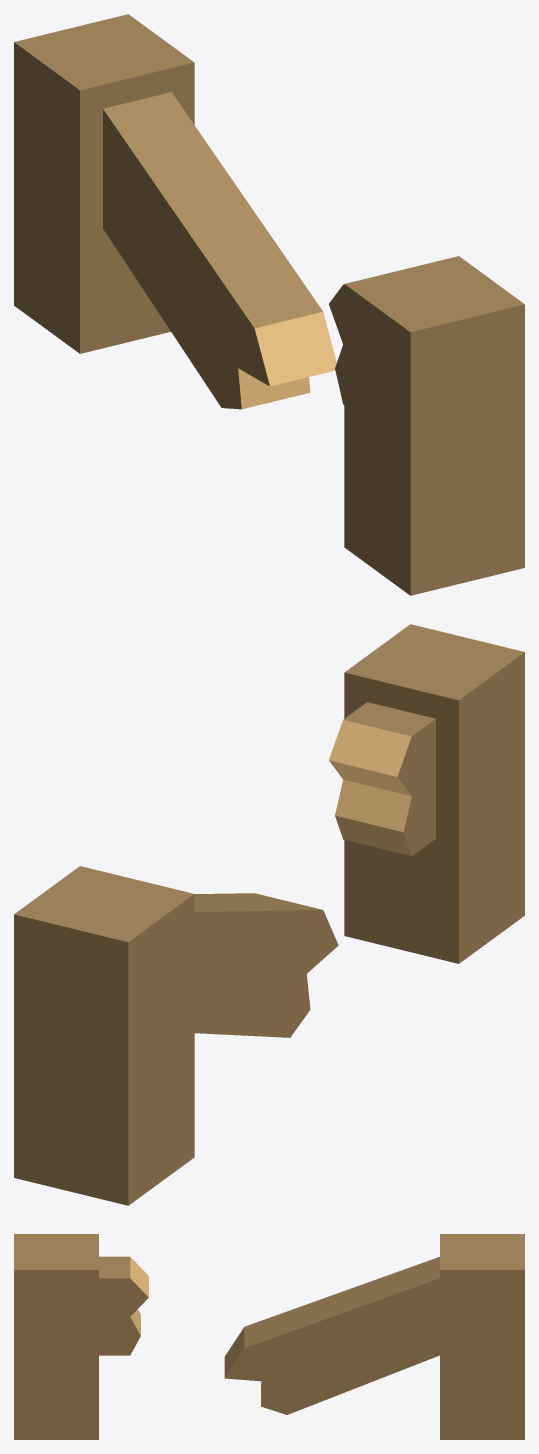
The model's file is Wood_Fence_Broken_01.obj.
3 renders of one model, top to bottom at view 1: azimuth 30°, elevation 25°; view 2: azimuth 150°, elevation 25°; view 3: azimuth 270°, elevation 25°, orthographic. The views are drawn at different scales.
Visible parts, largest first — view 1: Mesh1_Wood_Fence_Broken_Model; view 2: Mesh1_Wood_Fence_Broken_Model; view 3: Mesh1_Wood_Fence_Broken_Model.
Part boxes in pixels (x1,y1,x2,y2): Mesh1_Wood_Fence_Broken_Model: [14, 14, 524, 595]; Mesh1_Wood_Fence_Broken_Model: [14, 624, 524, 1205]; Mesh1_Wood_Fence_Broken_Model: [14, 1234, 524, 1439].
Bounding box in the file's own units: 0.5 × 1.1 × 3.
